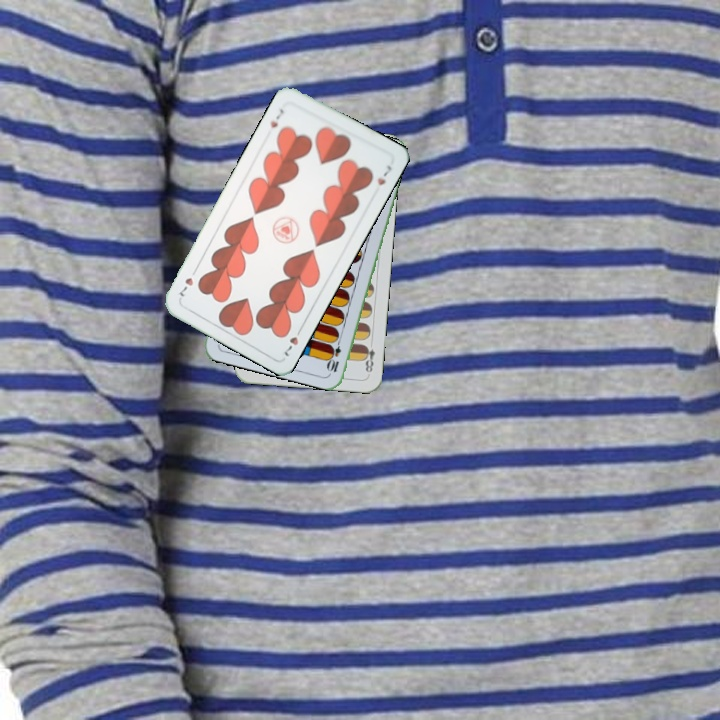E10: (325, 334, 344, 375)
E8: (360, 341, 377, 377)
H7: (279, 323, 305, 359), (266, 104, 287, 131)
